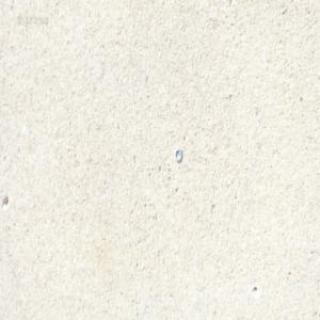Washertrack_idkeyframe: (174, 148, 182, 164)
